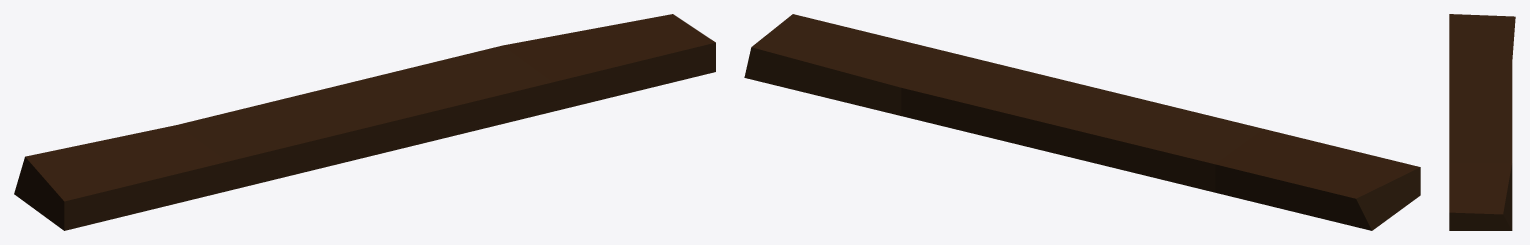
The model's file is woodPiece_type_03.fbx.
3 views of the same model, side by side, from view 1: azimuth 30°, elevation 25°; view 2: azimuth 150°, elevation 25°; view 3: azimuth 270°, elevation 25° (orthographic). The views are drawn at different scales.
Parts seen in each view (by area): view 1: woodPiece_type_03; view 2: woodPiece_type_03; view 3: woodPiece_type_03.
Part boxes in pixels (left/top/right/bottom): woodPiece_type_03: left=14, top=14, right=715, bottom=230; woodPiece_type_03: left=744, top=14, right=1420, bottom=230; woodPiece_type_03: left=1449, top=14, right=1515, bottom=230.
Bounding box in the file's own units: 128 × 6 × 18.
